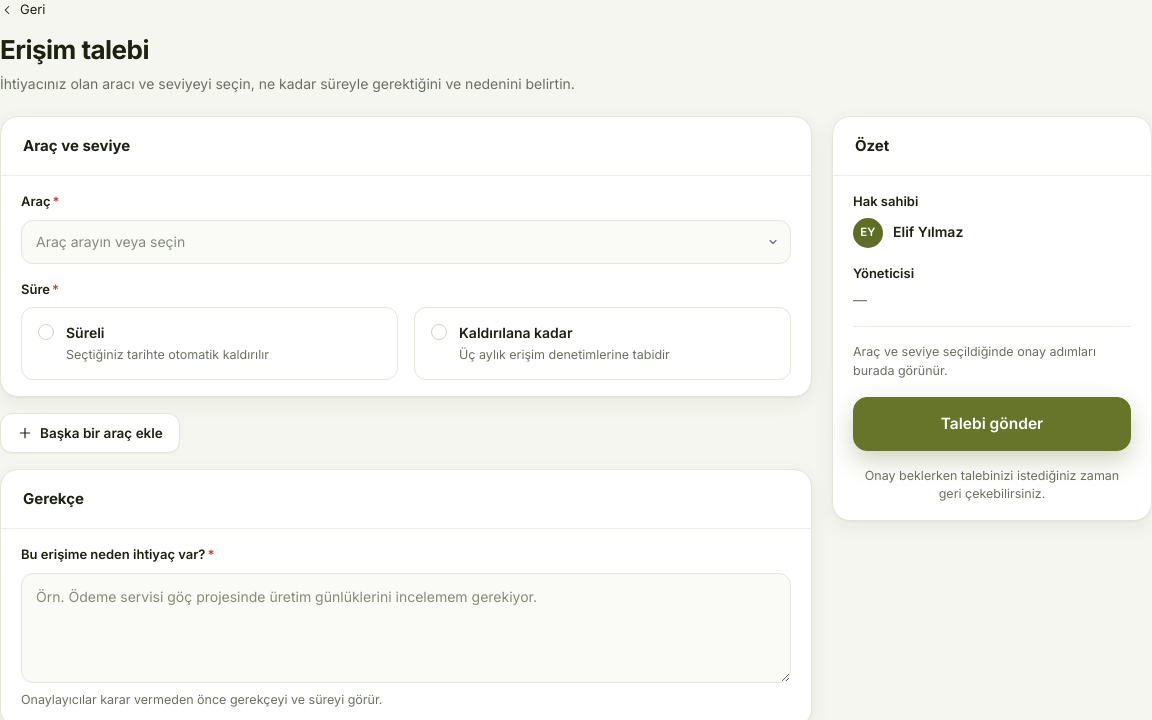
Test: new access request › finds a tool by typing and picks it with the keyboard
The image size is (1152, 720).
In the dropdown labelled "Araç*": (406, 242) [21,220,791,264], type "j"
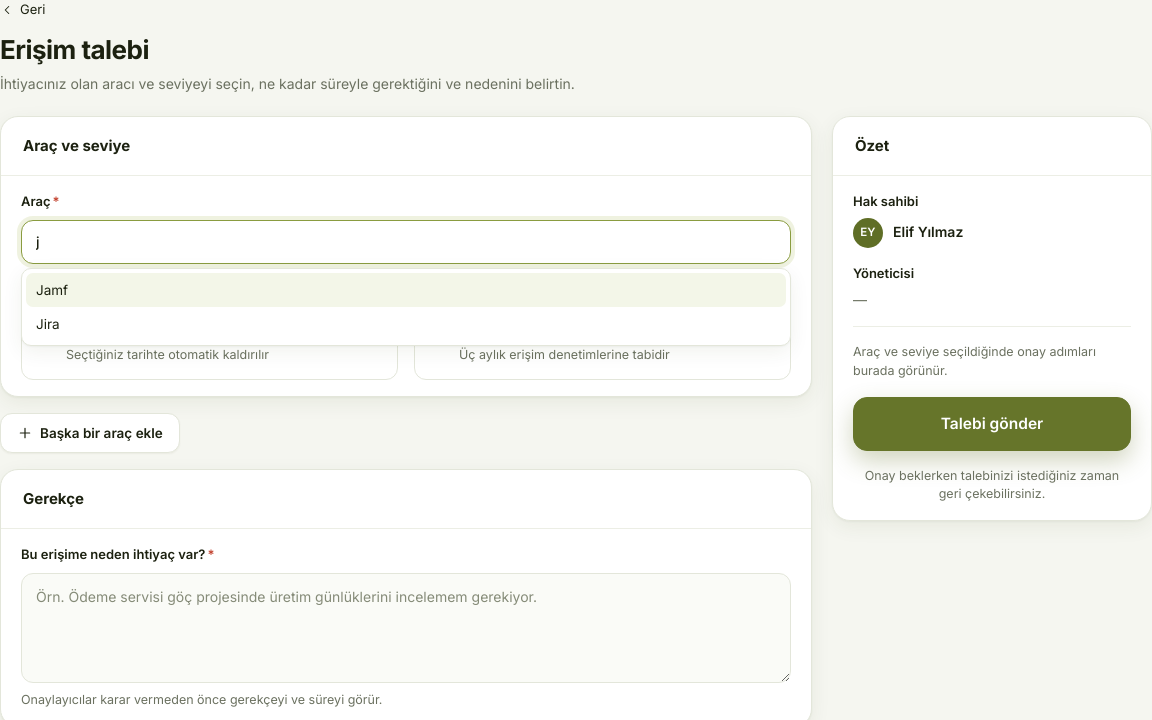
Result: the options read "Jamf", "Jira", in this order at [26,272,786,307]; [36,316,60,332]
Press Arrowdown Arrowdown Enter
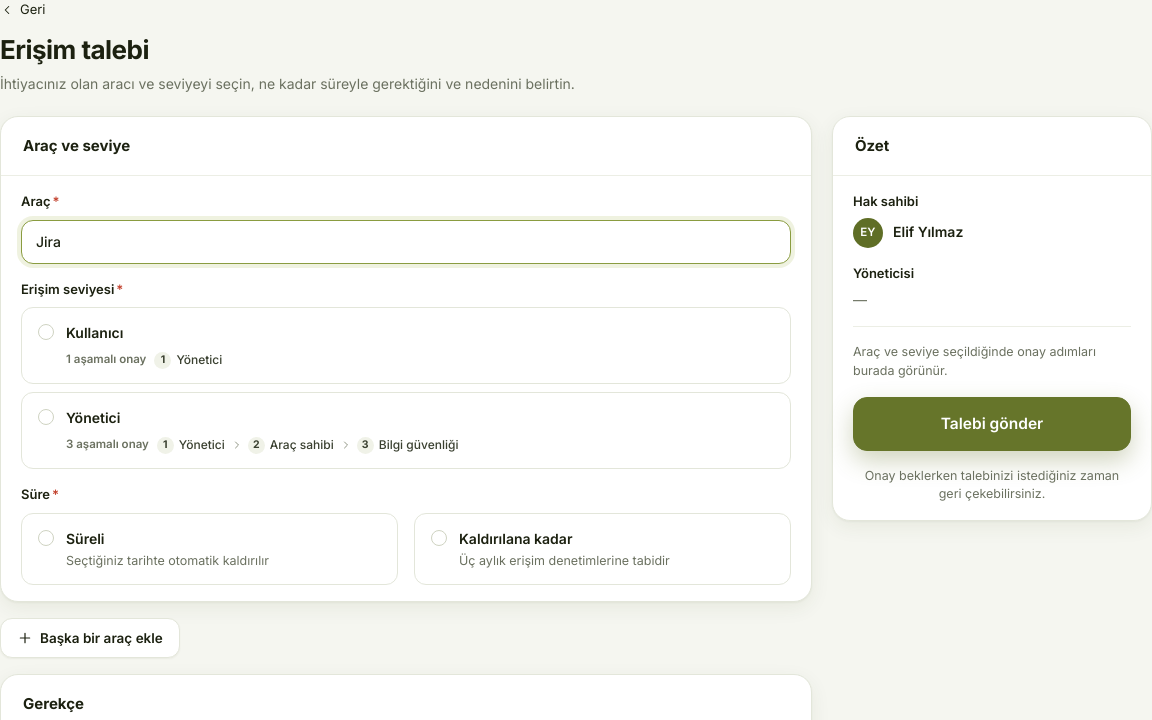
Result: the dropdown labelled "Araç*" holds "Jira"
Result: the radio button labelled "Kullanıcı 1 aşamalı onay 1 Yönetici" is shown at [21,307,791,384]
Replace the text in the dropdown labelled "Araç*" with "inter": (406, 242) [21,220,791,264]
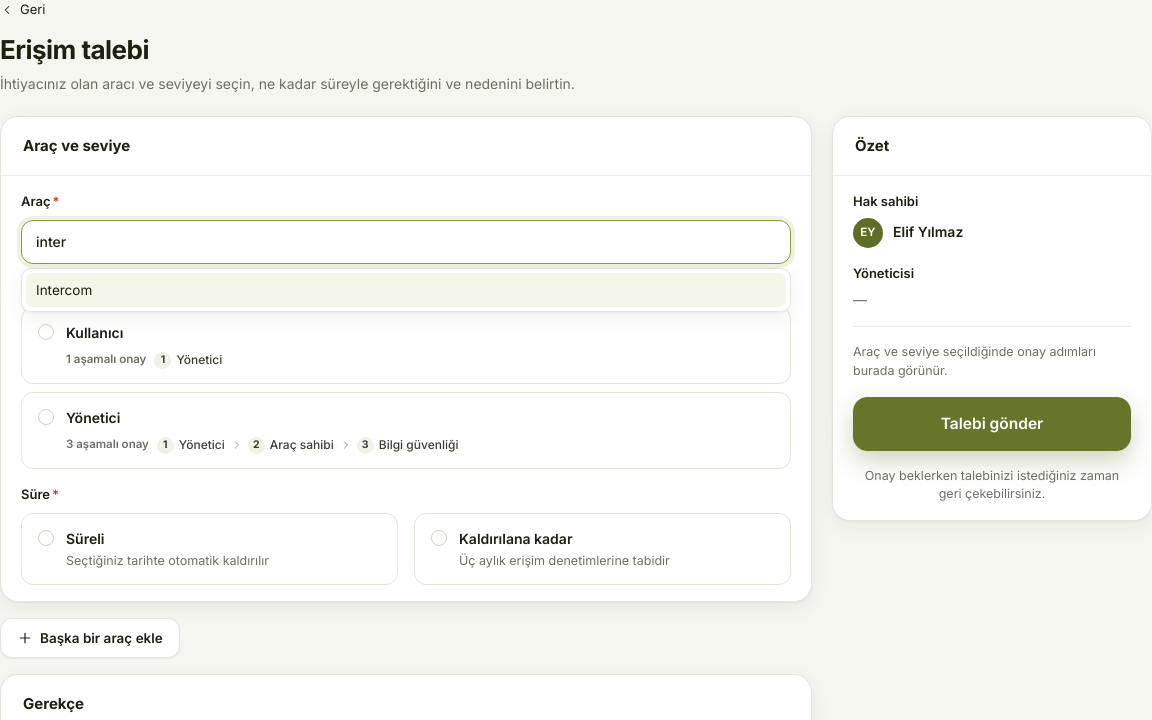
Result: the options read "Intercom", in this order at [26,272,786,307]
Replace the text in the dropdown labelled "Araç*" with "zzz": (406, 242) [21,220,791,264]
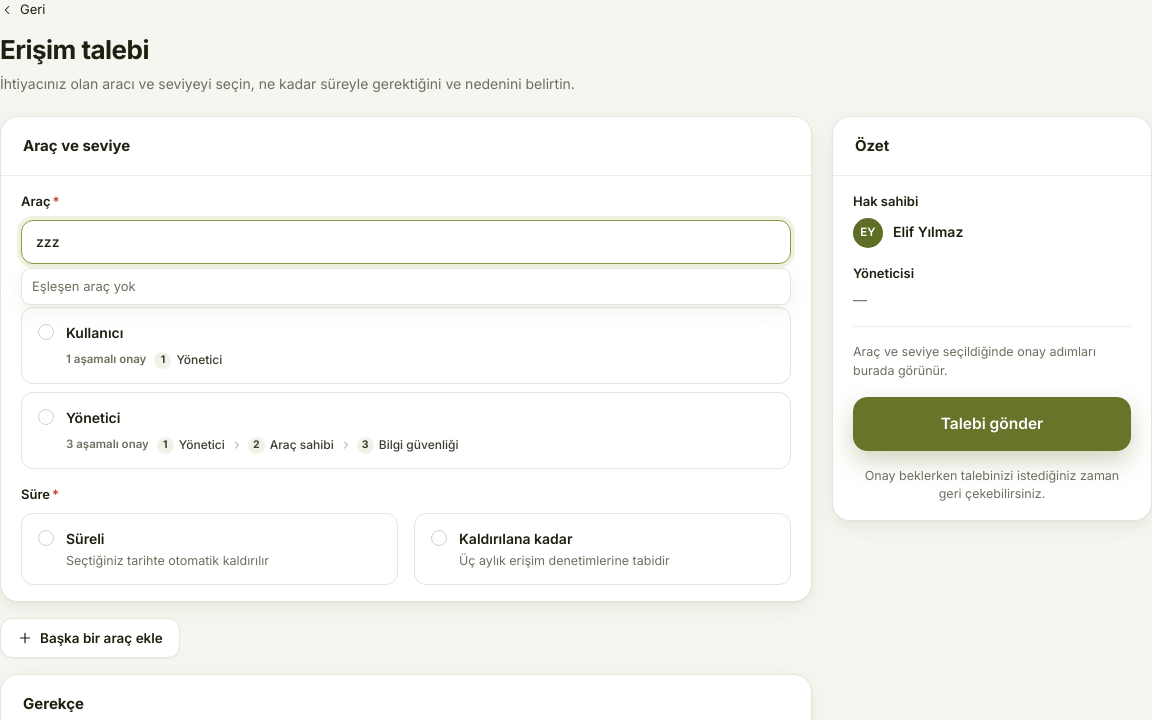
Result: the text "Eşleşen araç yok" is shown at [21,268,791,305]
Press Escape
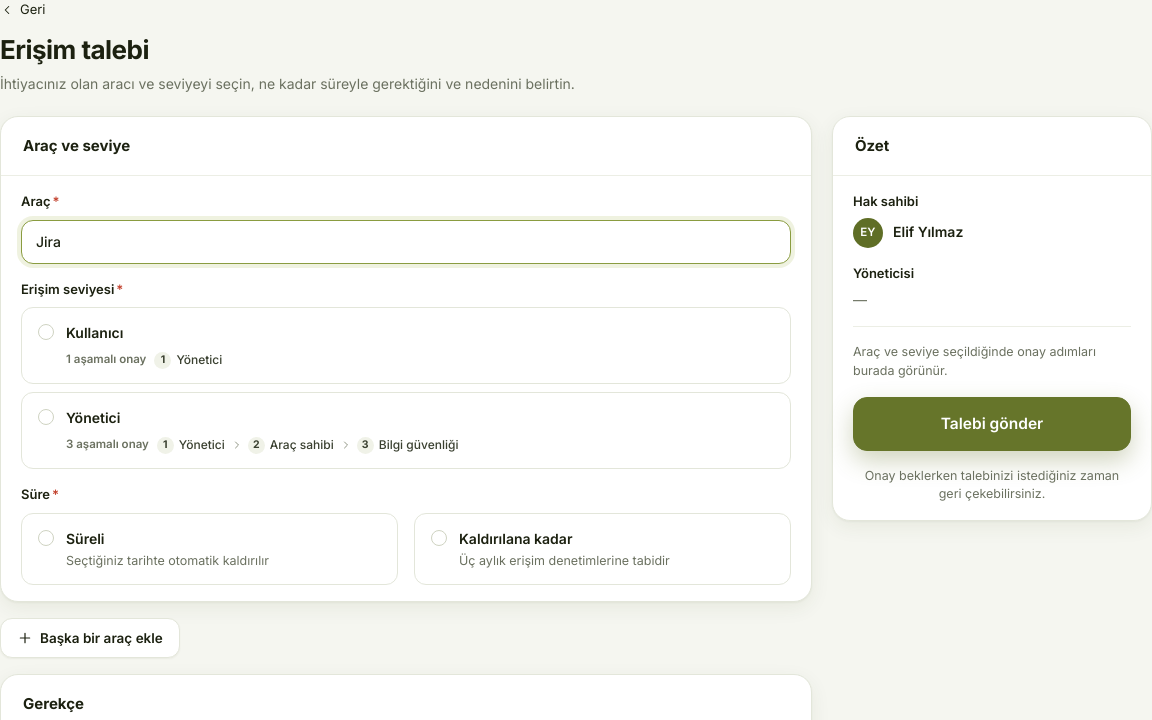
Result: the dropdown labelled "Araç*" holds "Jira" at [21,220,791,264]
